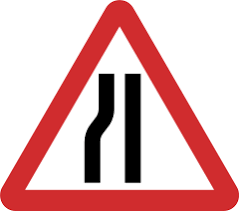Narrow_road: (3, 1, 238, 211)
